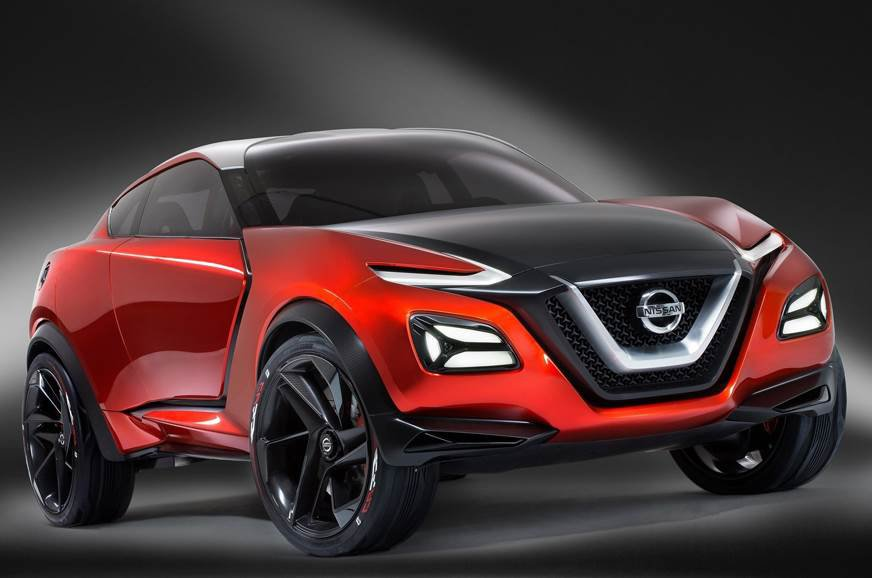car: (22, 127, 849, 559)
